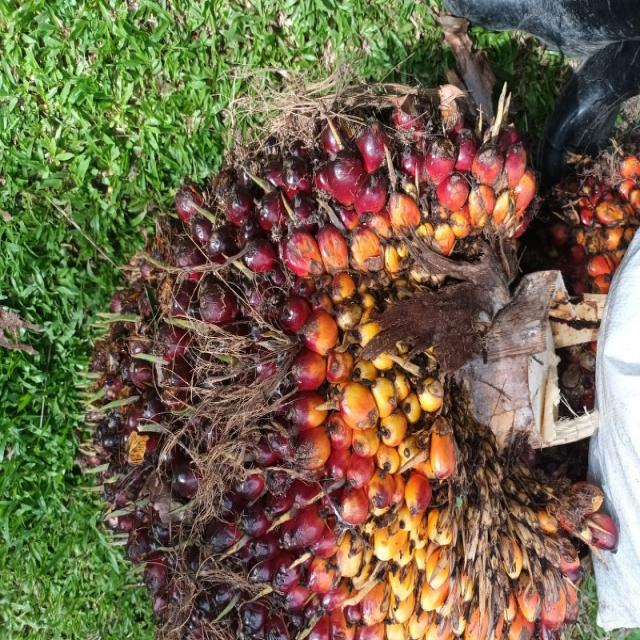fraksi 1: (70, 30, 576, 640)
